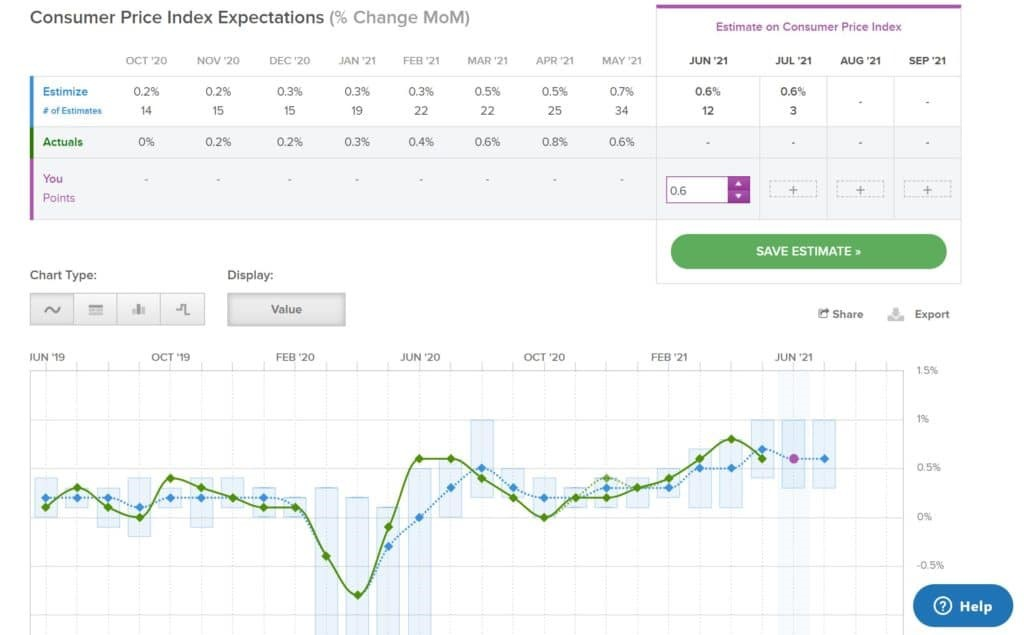block: (14, 342, 955, 635), (21, 1, 964, 224), (17, 262, 950, 340)
button: (671, 234, 945, 268), (913, 583, 1012, 627), (227, 292, 347, 326)
chart: (17, 344, 951, 635)
form: (666, 175, 751, 203)
icon: (116, 292, 161, 326), (163, 293, 206, 327), (74, 293, 117, 326), (31, 293, 74, 325), (836, 178, 888, 199), (904, 178, 953, 199), (771, 178, 818, 198), (729, 176, 751, 202), (884, 303, 907, 327), (930, 595, 954, 617), (816, 303, 831, 323), (853, 244, 869, 258)
table: (29, 47, 963, 223)
